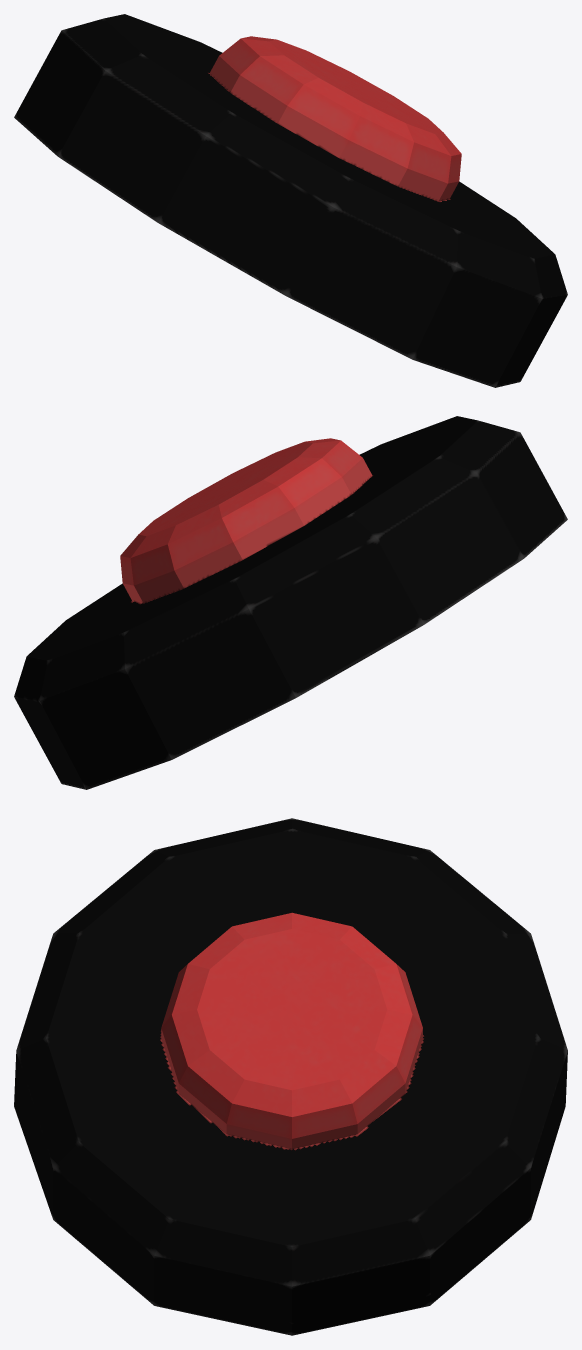
Rendered from BTS_05.glb.
3 renders of one model, top to bottom at view 1: azimuth 30°, elevation 25°; view 2: azimuth 150°, elevation 25°; view 3: azimuth 270°, elevation 25°, orthographic. The views are drawn at different scales.
Bounding box in the file's own units: 0.0617 × 0.0464 × 0.0664.
1 material, 1 textured.
